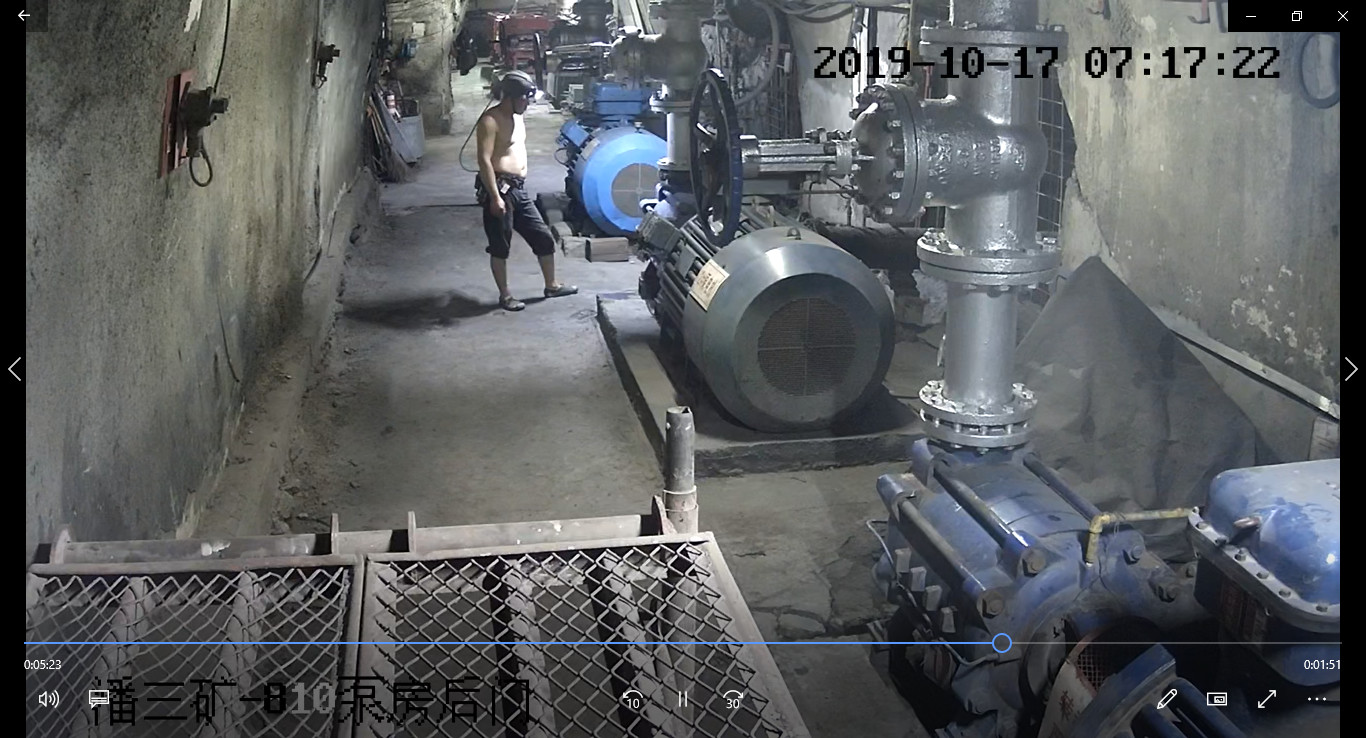helmet: (499, 68, 536, 98)
